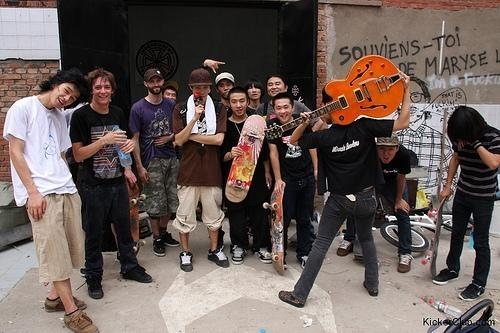bicycle: (378, 198, 435, 252), (444, 302, 496, 333)
